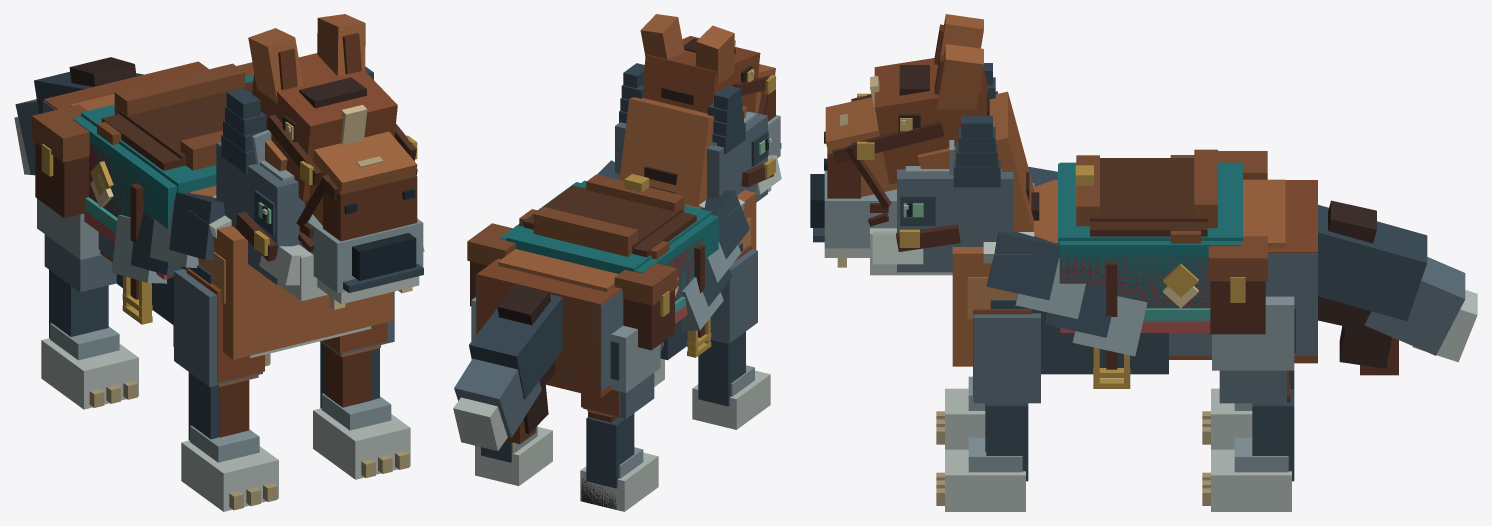
Rendered from mounts.glb.
The picture shows the model from 3 angles, left to right: view 1: azimuth 30°, elevation 25°; view 2: azimuth 150°, elevation 25°; view 3: azimuth 270°, elevation 25°; orthographic projection. The views are drawn at different scales.
Visible parts, largest first — view 1: horse-body-mesh, horse-head-mesh, wolf-head-mesh, wolf-body-mesh, wolf-rear-left-knee-mesh, wolf-front-left-knee-mesh, wolf-front-right-knee-mesh, wolf-rear-left-mesh, wolf-front-left-mesh, horse-front-right-knee-mesh, wolf-tail-mesh, horse-front-left-mesh (+3 smaller); view 2: horse-body-mesh, horse-head-mesh, wolf-body-mesh, wolf-tail-mesh, wolf-head-mesh, wolf-rear-left-knee-mesh, wolf-front-left-knee-mesh, wolf-rear-left-mesh, wolf-rear-right-knee-mesh, wolf-front-left-mesh, horse-tail-mesh, horse-rear-left-knee-mesh (+1 smaller); view 3: horse-body-mesh, wolf-body-mesh, horse-head-mesh, wolf-head-mesh, wolf-tail-mesh, wolf-rear-right-knee-mesh, wolf-front-right-knee-mesh, wolf-rear-right-mesh, wolf-front-right-mesh, horse-tail-mesh, wolf-front-left-knee-mesh, wolf-rear-left-knee-mesh.
Boxes of the visible parts, x1,y1,x2,y2 form: horse-body-mesh: [32, 61, 392, 359]; horse-head-mesh: [248, 14, 417, 241]; wolf-head-mesh: [216, 66, 424, 309]; wolf-body-mesh: [32, 88, 371, 358]; wolf-rear-left-knee-mesh: [41, 270, 138, 409]; wolf-front-left-knee-mesh: [181, 372, 278, 511]; wolf-front-right-knee-mesh: [313, 342, 410, 479]; wolf-rear-left-mesh: [37, 198, 116, 292]; wolf-front-left-mesh: [174, 269, 262, 386]; horse-front-right-knee-mesh: [325, 346, 371, 407]; wolf-tail-mesh: [14, 71, 143, 175]; horse-front-left-mesh: [186, 268, 264, 387]; horse-body-mesh: [467, 174, 756, 397]; horse-head-mesh: [619, 14, 775, 207]; wolf-body-mesh: [467, 160, 749, 391]; wolf-tail-mesh: [453, 286, 562, 450]; wolf-head-mesh: [615, 63, 781, 202]; wolf-rear-left-knee-mesh: [580, 413, 658, 511]; wolf-front-left-knee-mesh: [692, 331, 770, 429]; wolf-rear-left-mesh: [583, 325, 660, 418]; wolf-rear-right-knee-mesh: [475, 426, 552, 485]; wolf-front-left-mesh: [710, 249, 757, 343]; horse-tail-mesh: [497, 284, 555, 444]; horse-rear-left-knee-mesh: [581, 410, 616, 509]; horse-body-mesh: [952, 149, 1317, 378]; wolf-body-mesh: [983, 166, 1317, 388]; horse-head-mesh: [824, 14, 1039, 231]; wolf-head-mesh: [810, 63, 1013, 275]; wolf-tail-mesh: [1318, 205, 1477, 362]; wolf-rear-right-knee-mesh: [1202, 389, 1294, 511]; wolf-front-right-knee-mesh: [936, 403, 1028, 511]; wolf-rear-right-mesh: [1212, 296, 1294, 403]; wolf-front-right-mesh: [973, 313, 1040, 403]; horse-tail-mesh: [1318, 200, 1398, 375]; wolf-front-left-knee-mesh: [936, 376, 985, 449]; wolf-rear-left-knee-mesh: [1202, 370, 1294, 449].
Size of the model in its own units: 1.53 by 2.85 by 3.96.
